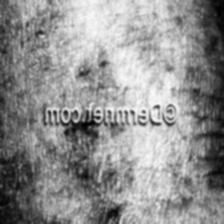Non-Cancerous Skin Condition: (38, 126, 128, 224), (175, 83, 224, 194), (50, 34, 118, 102)
